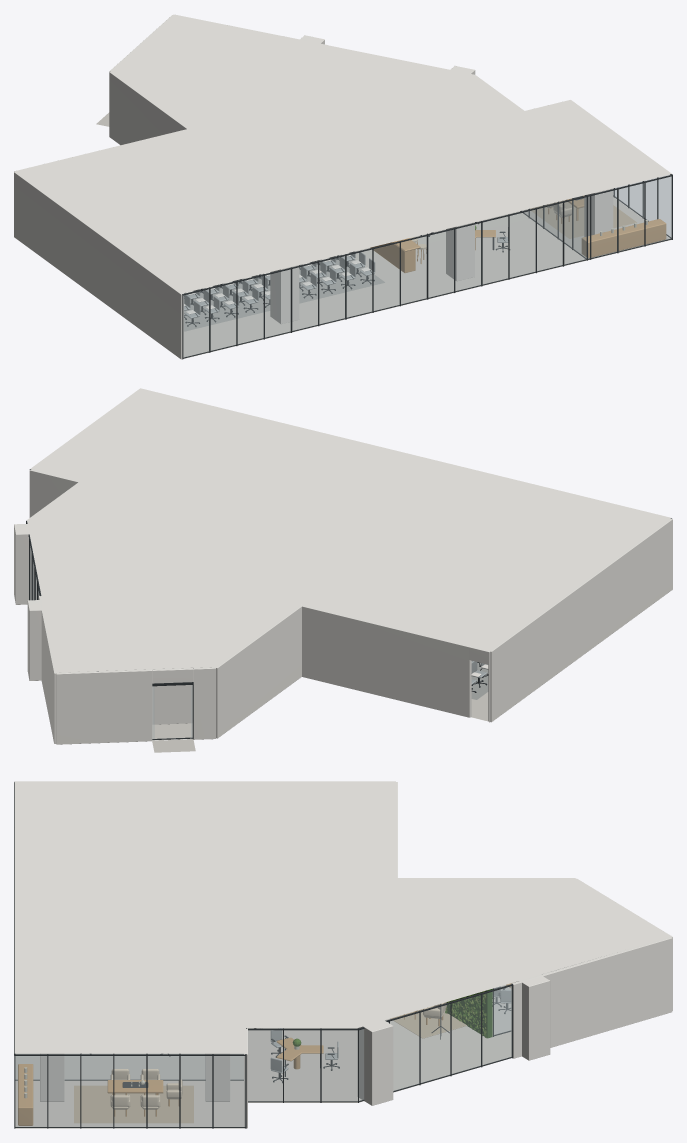
Rendered from MindsLeap-office-v1.glb.
3 views of the same model, one above another, from view 1: azimuth 30°, elevation 25°; view 2: azimuth 150°, elevation 25°; view 3: azimuth 270°, elevation 25° (orthographic). The views are drawn at different scales.
Visible parts, largest first — view 1: CEILING_toggle, South full glazing_glass, Floor footprint traced from original plan, West training solid wall, Storage west facade, Training carpet block 2, Tea low cabinet, Tea WEST clear glass_glass, Tea east outer glazing_glass, Structural_column_06, Structural_column_07, Tea woven rug (+4 smaller); view 2: CEILING_toggle, West training solid wall, North training boundary_right, Entrance exterior diagonal_right, Storage west facade, Entrance exterior diagonal_left, Meeting entrance-facing SOLID logo wall, Structural_column_03, Tea north enclosure outer return, Solid company culture perimeter, Structural_column_02, Floor footprint traced from original plan (+2 smaller); view 3: CEILING_toggle, Floor footprint traced from original plan, Tea east outer glazing_glass, Solid company culture perimeter, East upper window_glass, East lounge office window_glass, Tea woven rug, Tea WEST clear glass_glass, Structural_column_03, Structural_column_02, Structural_column_08, Structural_column_09 (+6 smaller).
Boxes of the visible parts, x1,y1,x2,y2 form: CEILING_toggle: (16,14,671,293); South full glazing_glass: (184,177,671,357); Floor footprint traced from original plan: (184,197,671,358); West training solid wall: (14,171,183,359); Storage west facade: (109,71,188,145); Training carpet block 2: (183,255,384,331); Tea low cabinet: (581,219,666,258); Tea WEST clear glass_glass: (523,195,585,257); Tea east outer glazing_glass: (615,175,670,236); Structural_column_06: (270,265,299,323); Structural_column_07: (446,222,474,281); Tea woven rug: (530,200,636,238); CEILING_toggle: (27,388,670,672); West training solid wall: (488,518,672,722); North training boundary_right: (301,604,471,717); Entrance exterior diagonal_right: (56,669,152,744); Storage west facade: (215,605,301,738); Entrance exterior diagonal_left: (193,667,215,739); Meeting entrance-facing SOLID logo wall: (106,650,239,724); Structural_column_03: (14,524,39,604); Tea north enclosure outer return: (29,469,79,517); Solid company culture perimeter: (38,596,57,743); Structural_column_02: (27,600,43,680); Floor footprint traced from original plan: (59,671,488,740); CEILING_toggle: (14,781,670,1053); Floor footprint traced from original plan: (15,985,511,1128); Tea east outer glazing_glass: (15,1056,244,1126); Solid company culture perimeter: (511,937,672,1058); East upper window_glass: (359,986,511,1100); East lounge office window_glass: (248,1030,357,1101); Tea woven rug: (74,1085,193,1123); Tea WEST clear glass_glass: (16,1056,243,1079); Structural_column_03: (357,1020,393,1105); Structural_column_02: (515,974,550,1060); Structural_column_08: (205,1053,230,1101); Structural_column_09: (40,1053,64,1101).
Size of the model in its own units: 23.73 by 3.05 by 24.16.
